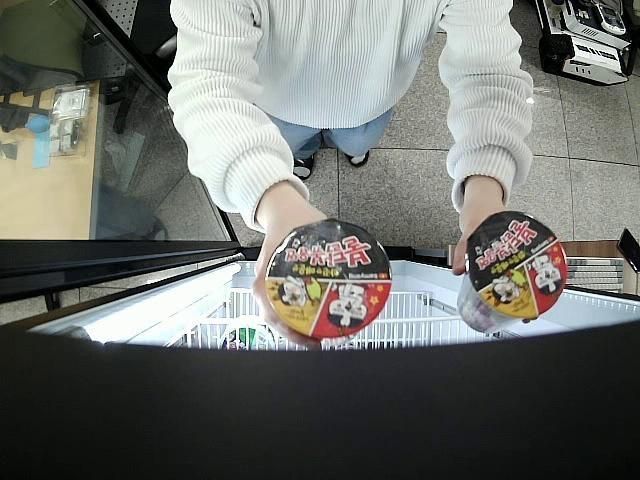08_buldak_S: (264, 218, 392, 339), (457, 213, 566, 332)
